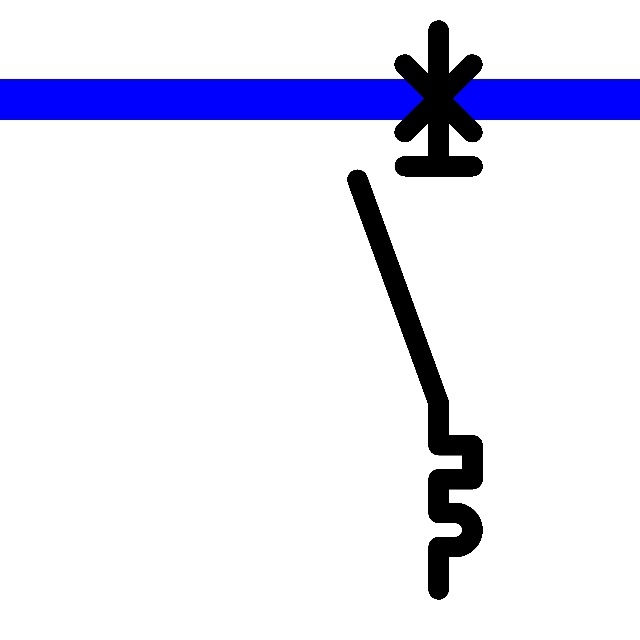interruptor_termomagnetico: (343, 16, 487, 604)
